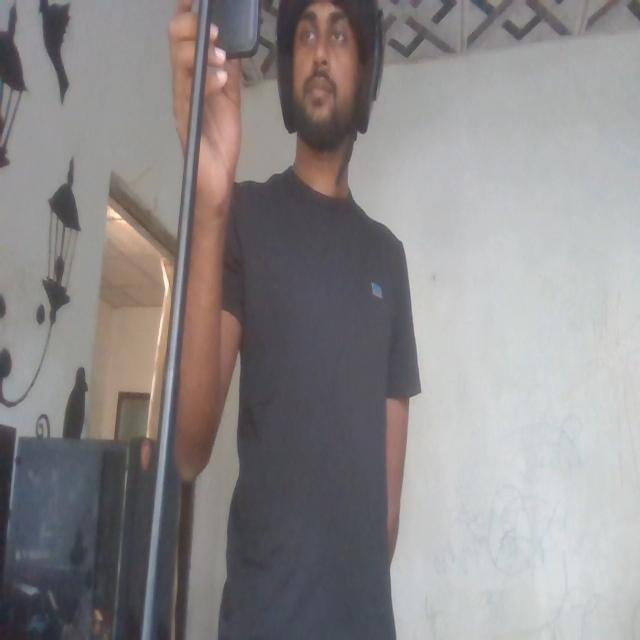Helmet_Wearer: (262, 0, 392, 166)
Person: (176, 0, 423, 640)
